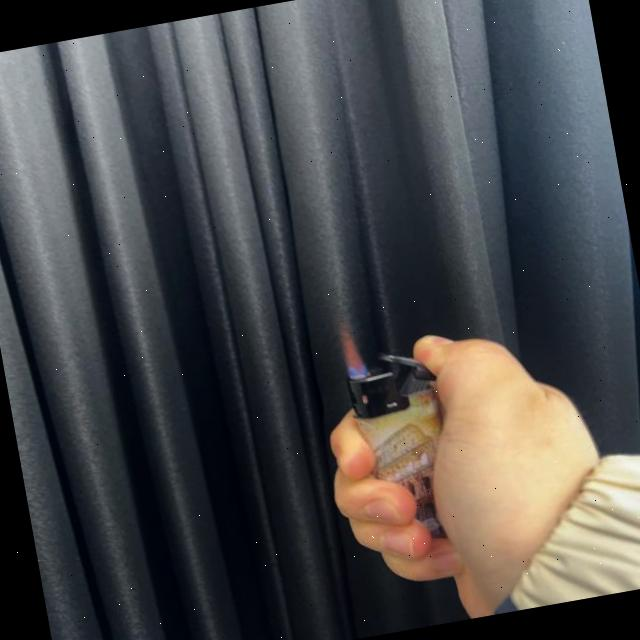fire: (336, 320, 368, 380)
